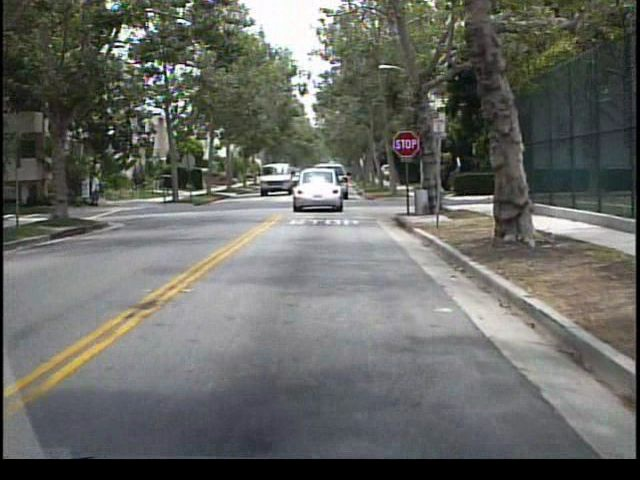person: (93, 165, 106, 209), (75, 166, 87, 209)
